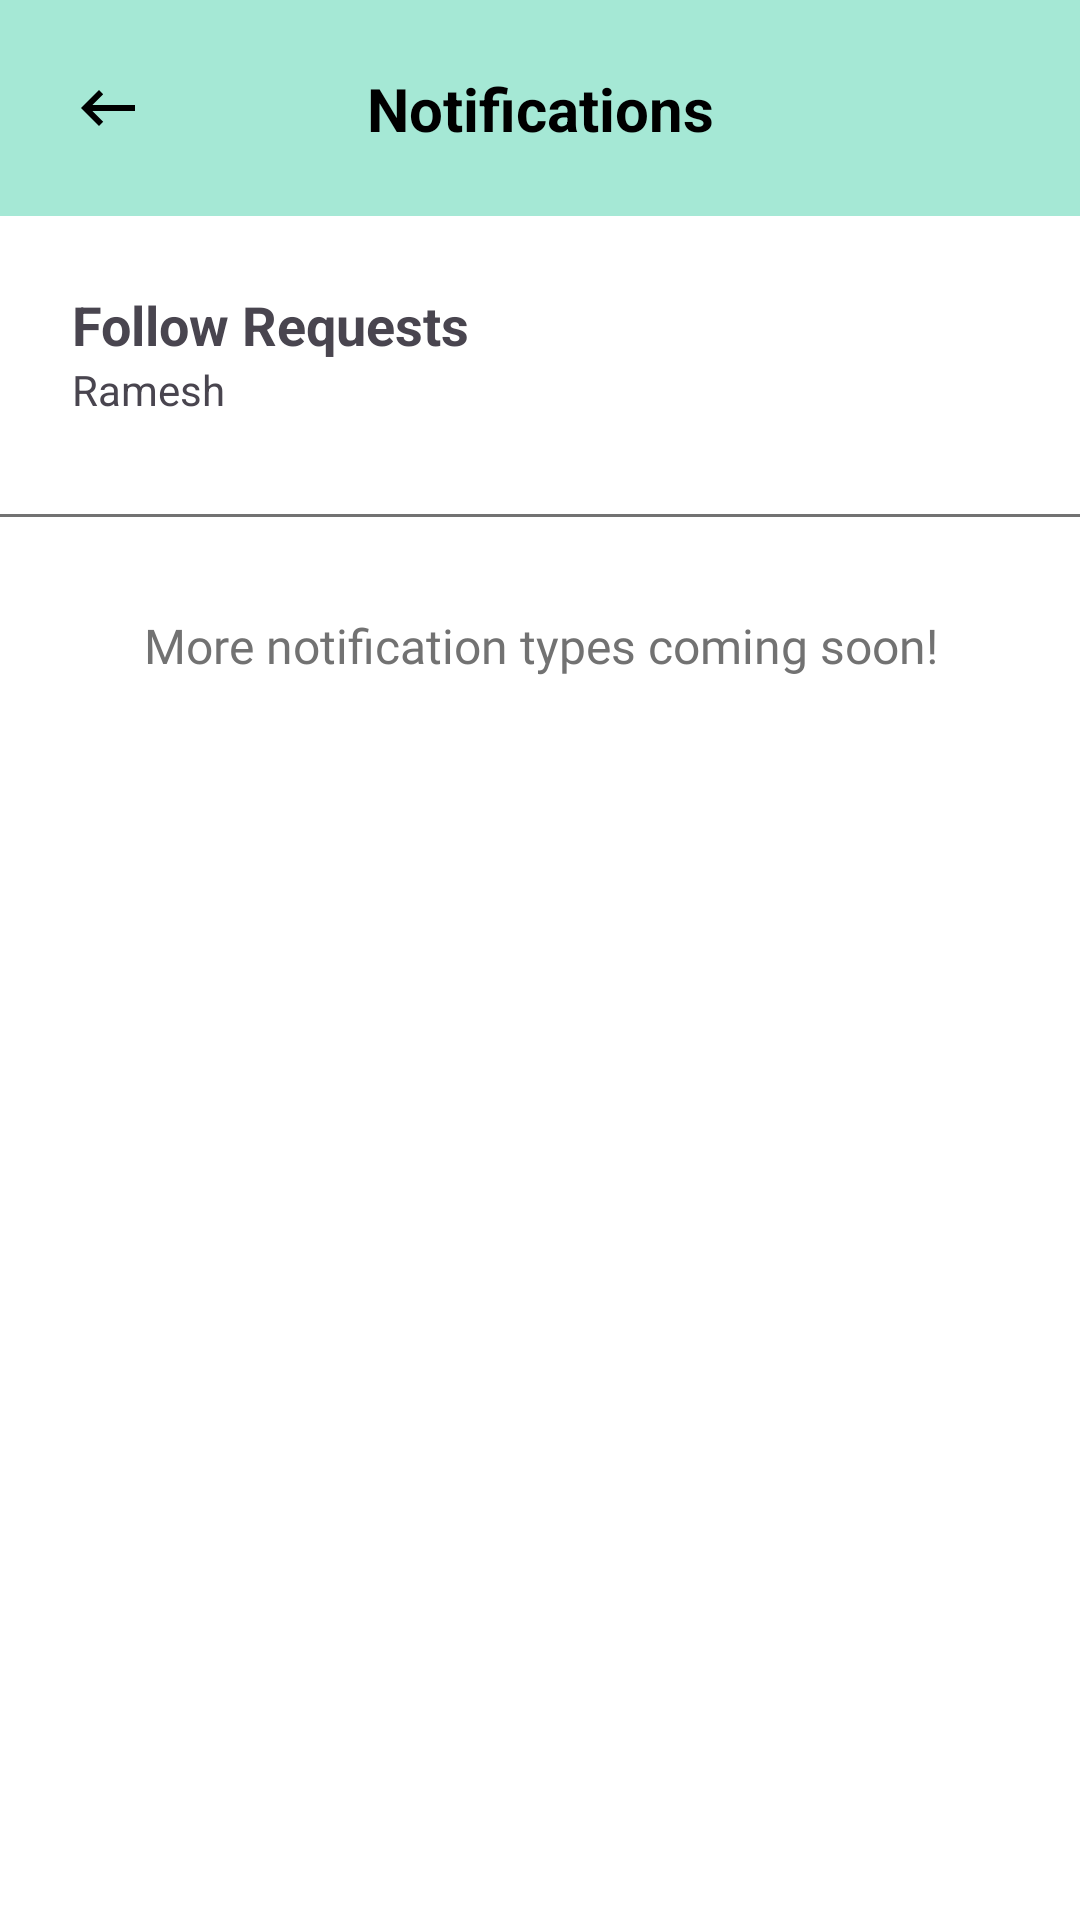

Point at icon controls on the screen. Image size 1080px×1920px, points as point (x, y).
keyboard backspace: point (108, 108)
